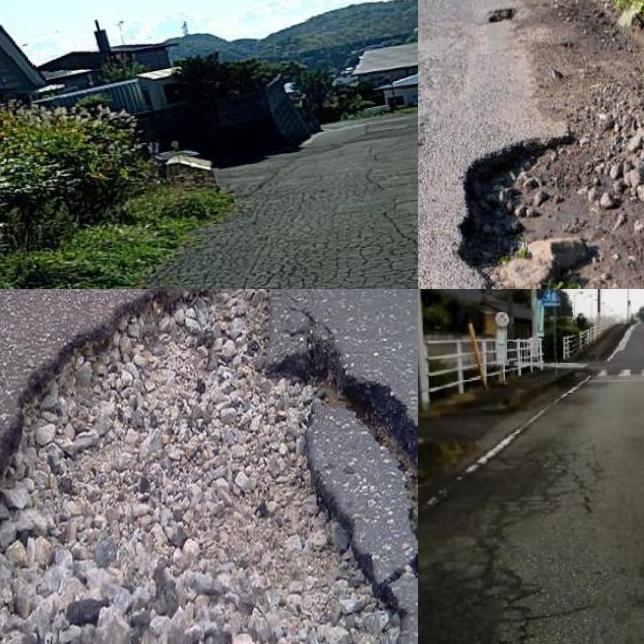Lubang: (0, 289, 418, 644)
Pinggir: (434, 118, 644, 289)
Retak Buaya: (119, 185, 418, 289)
